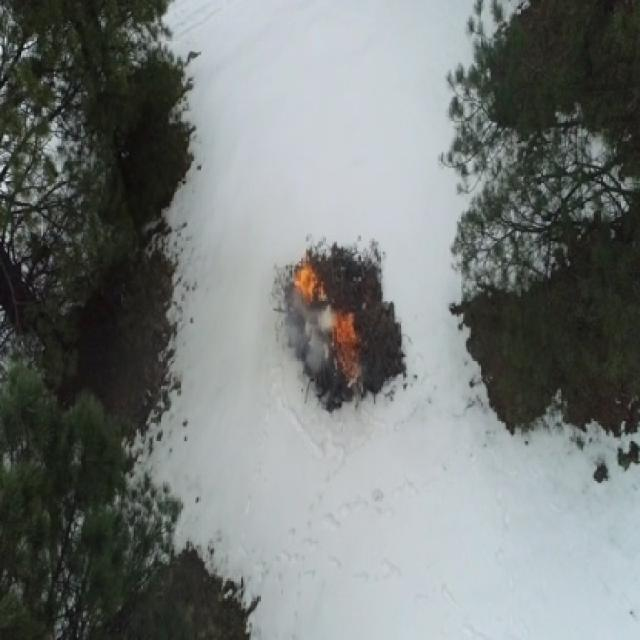Fire: (274, 235, 406, 411), (296, 267, 320, 300), (339, 344, 362, 377), (333, 313, 357, 343)
